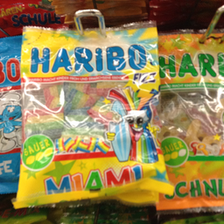candy: (9, 22, 169, 201), (137, 32, 224, 209)
